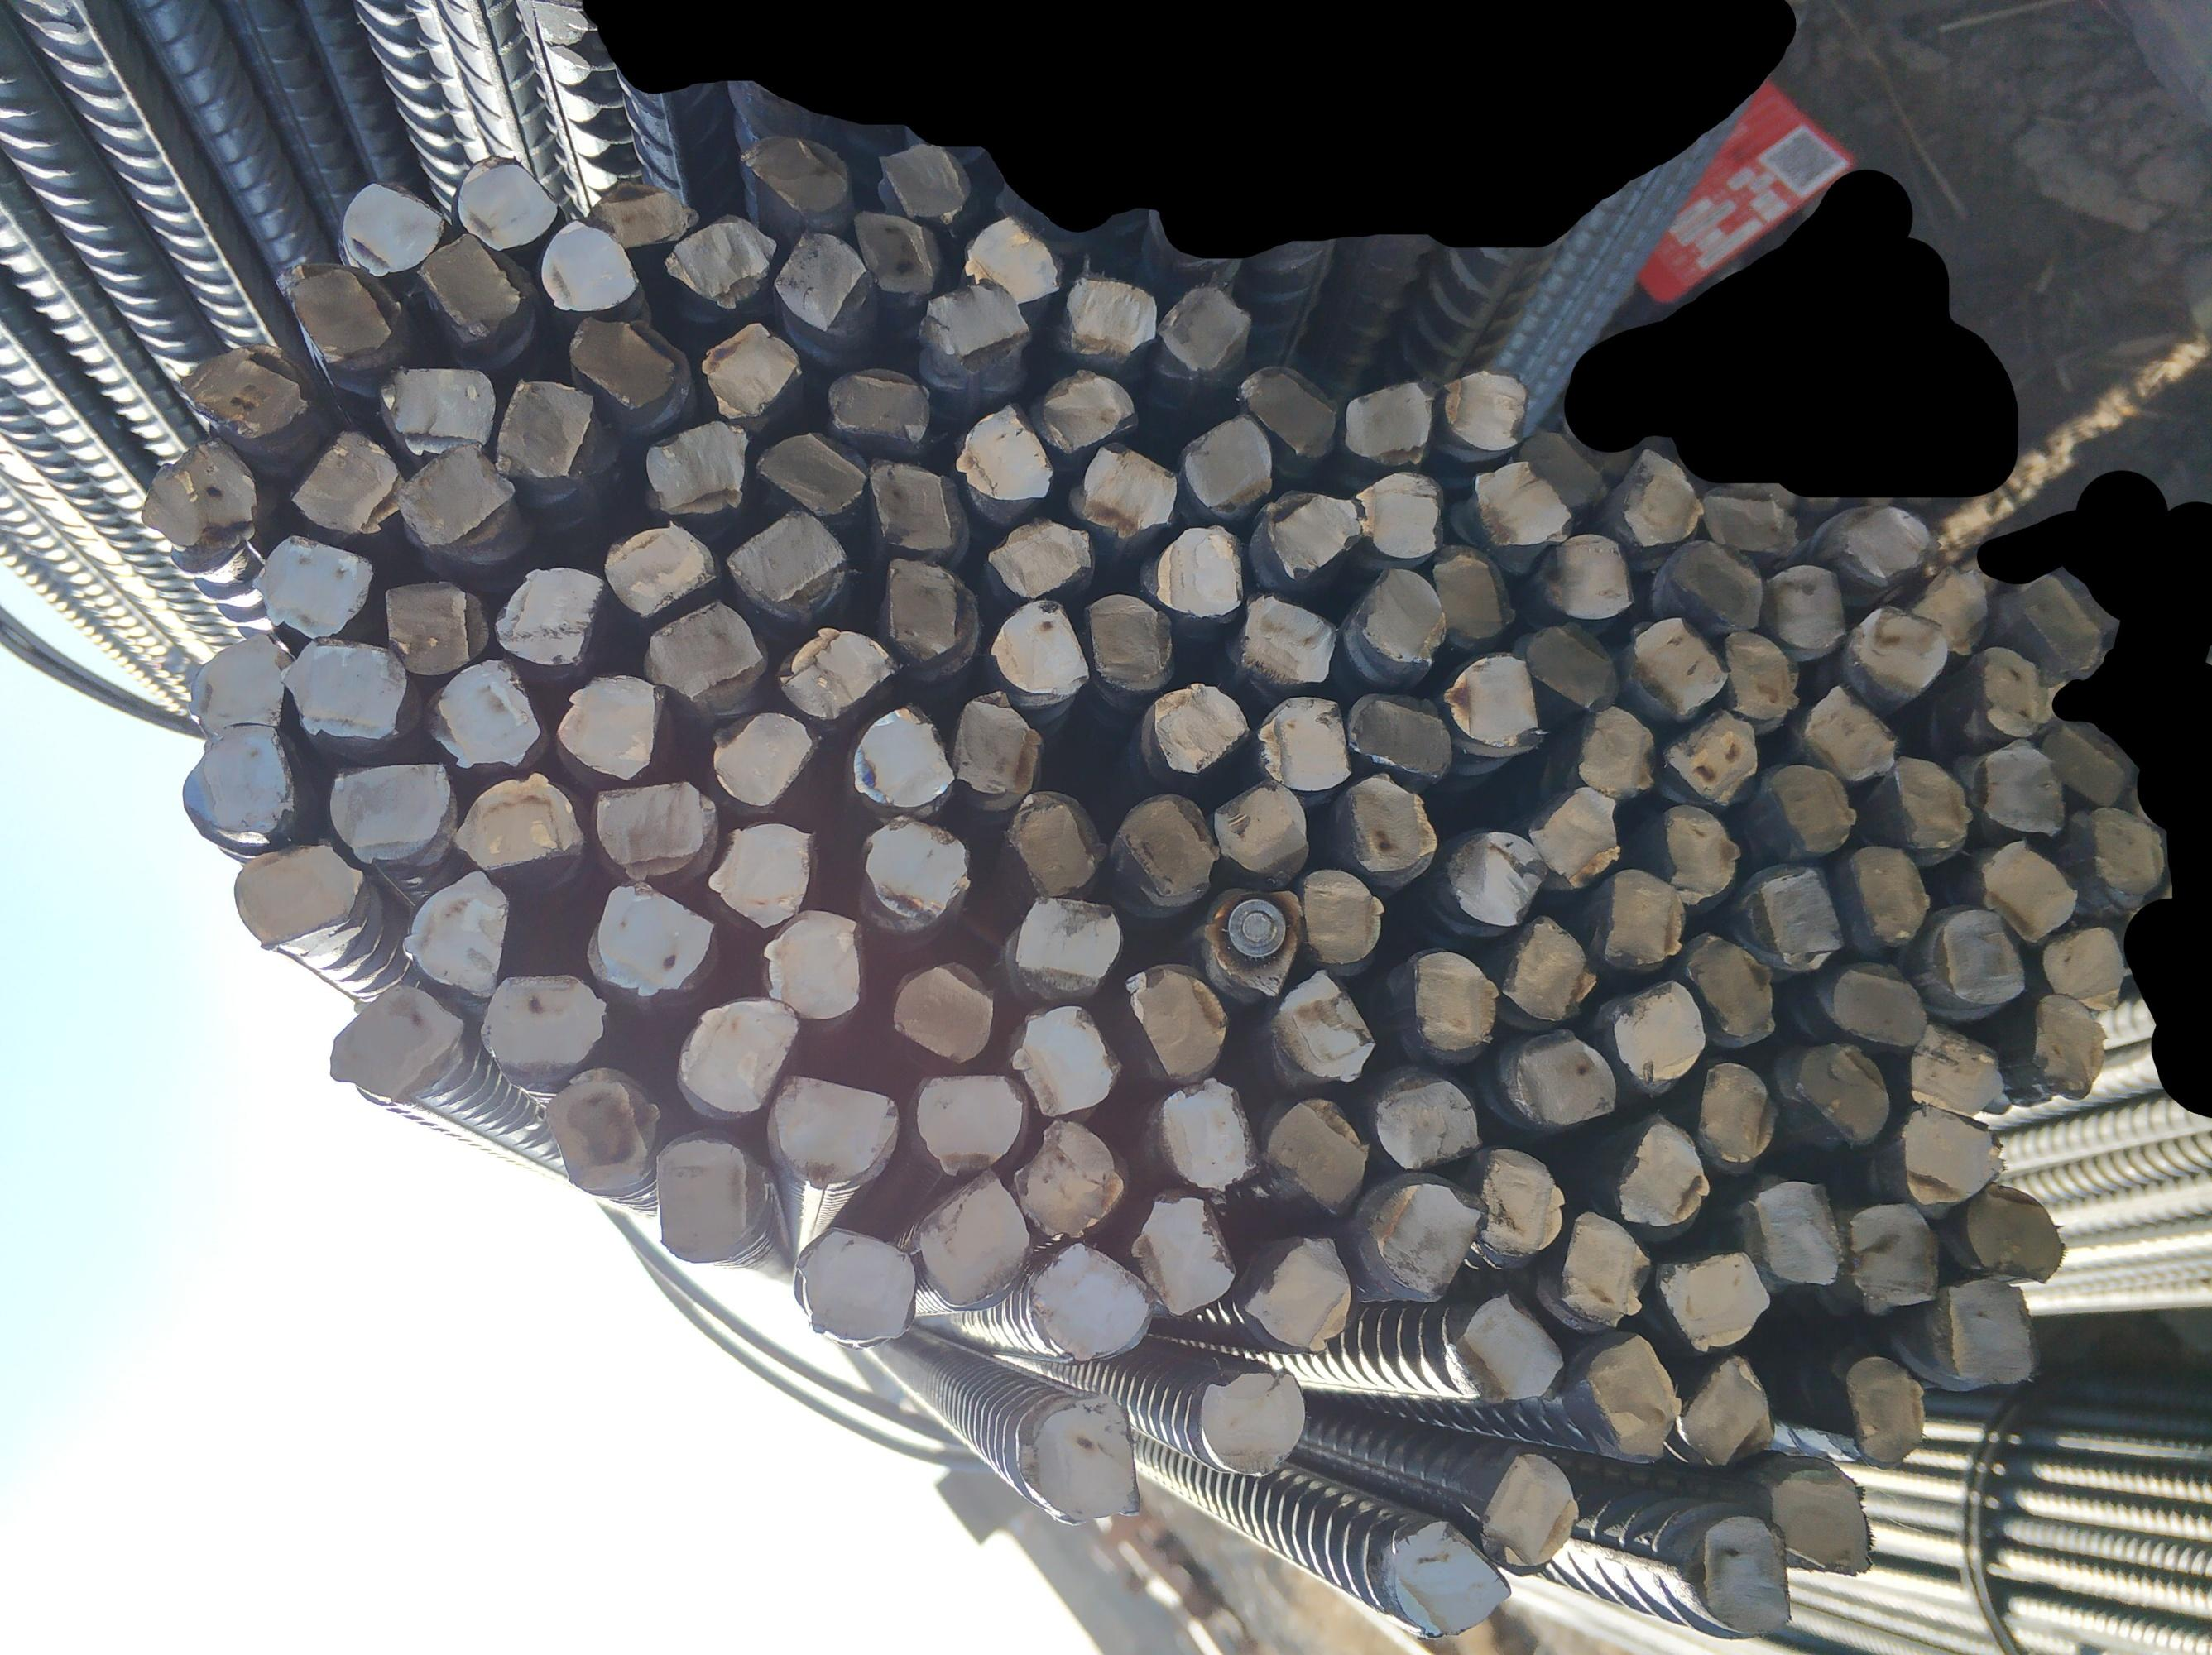bar: (413, 230, 543, 373), (911, 1163, 1034, 1312), (323, 981, 468, 1104), (792, 1219, 921, 1353), (1017, 1390, 1144, 1526), (650, 1125, 773, 1265), (1025, 1239, 1159, 1365), (765, 1069, 902, 1190), (583, 879, 717, 1000), (674, 992, 800, 1119), (1112, 957, 1234, 1088), (1012, 1111, 1131, 1245), (271, 261, 415, 372), (722, 504, 852, 625), (177, 722, 296, 853), (1002, 998, 1127, 1122), (541, 1063, 660, 1192), (1388, 1518, 1514, 1638), (1589, 974, 1708, 1100), (1154, 1077, 1269, 1206), (232, 841, 367, 950), (1237, 1231, 1356, 1355), (588, 775, 721, 886), (449, 770, 587, 875), (1365, 1177, 1485, 1298), (1126, 1191, 1239, 1318), (277, 634, 410, 741), (284, 426, 411, 537), (1580, 1328, 1683, 1465), (137, 434, 258, 550), (401, 867, 509, 997), (1461, 1141, 1567, 1274), (857, 811, 973, 931), (247, 531, 375, 640), (425, 654, 543, 770), (1475, 1447, 1581, 1576), (875, 555, 981, 684), (1268, 966, 1379, 1089), (1450, 1289, 1568, 1404), (1109, 791, 1222, 911), (175, 341, 311, 440), (1261, 1093, 1370, 1217), (393, 440, 518, 549), (1667, 928, 1777, 1050), (326, 761, 456, 864), (553, 669, 666, 785), (1364, 1067, 1488, 1173), (1196, 883, 1308, 999), (1766, 1462, 1878, 1579), (640, 598, 764, 703), (1499, 1024, 1619, 1130), (773, 622, 903, 721), (706, 820, 819, 932), (477, 973, 607, 1070), (1010, 893, 1126, 1002), (1653, 1247, 1772, 1352), (1648, 536, 1768, 640), (1208, 773, 1312, 892), (758, 906, 865, 1021), (598, 517, 717, 620), (916, 1072, 1029, 1179), (660, 210, 780, 312), (1673, 1350, 1776, 1468), (1197, 1365, 1306, 1476), (1231, 587, 1342, 694), (1004, 787, 1110, 899), (1340, 684, 1458, 784), (492, 564, 606, 668), (183, 631, 298, 733), (1698, 1512, 1794, 1634), (1962, 1178, 2071, 1286), (1441, 648, 1547, 759), (377, 362, 498, 459), (1651, 703, 1760, 809), (567, 314, 681, 415), (848, 701, 956, 808), (1613, 1117, 1713, 1232), (1422, 536, 1522, 651), (1557, 1207, 1653, 1328), (1941, 1275, 2043, 1387), (886, 962, 996, 1066), (1497, 911, 1600, 1022), (1348, 560, 1451, 671), (1845, 1199, 1941, 1317), (1342, 765, 1439, 881), (1745, 1177, 1847, 1288), (708, 708, 818, 809), (334, 178, 446, 278), (751, 427, 873, 519), (493, 373, 594, 483), (1900, 1103, 2008, 1206), (1976, 837, 2080, 943), (1179, 410, 1277, 521), (986, 596, 1091, 699), (1232, 362, 1339, 463), (697, 319, 805, 420), (1589, 866, 1688, 975), (643, 417, 750, 518), (770, 223, 869, 333), (1794, 1037, 1890, 1149), (947, 687, 1043, 799), (952, 399, 1056, 501), (1523, 782, 1623, 890), (1799, 681, 1902, 784), (1626, 615, 1729, 717), (453, 151, 558, 252), (536, 213, 641, 314), (1843, 601, 1950, 699), (381, 578, 489, 676), (1255, 487, 1362, 585), (1077, 437, 1178, 540), (1253, 693, 1354, 796), (1443, 829, 1549, 927), (1972, 732, 2068, 840), (736, 131, 852, 218), (1754, 864, 1846, 973), (1081, 590, 1178, 694), (1029, 366, 1139, 457), (1842, 1352, 1927, 1470), (982, 512, 1093, 602), (1931, 905, 2028, 1005), (1533, 530, 1636, 624), (1907, 1019, 2005, 1116), (1409, 943, 1499, 1051), (1151, 679, 1250, 775), (1292, 866, 1388, 966), (961, 212, 1063, 306), (921, 274, 1034, 359), (1691, 1058, 1781, 1164), (1469, 458, 1574, 549), (1845, 842, 1932, 950), (1829, 956, 1928, 1049), (1522, 620, 1622, 712), (1657, 800, 1744, 907), (583, 172, 701, 251), (1153, 282, 1253, 373), (1618, 445, 1706, 549), (864, 455, 957, 553), (1767, 761, 1860, 857), (2028, 991, 2110, 1100), (1154, 522, 1245, 620), (1060, 274, 1159, 363), (823, 364, 932, 445), (1352, 467, 1442, 563), (1341, 377, 1435, 468), (2018, 572, 2104, 671), (849, 207, 943, 297), (872, 140, 973, 223), (1890, 753, 1975, 851), (1576, 703, 1658, 802), (2041, 923, 2133, 1012), (1517, 427, 1610, 513), (2040, 720, 2129, 808), (1698, 477, 1801, 554), (1720, 626, 1802, 722), (1439, 367, 1527, 453), (1764, 561, 1849, 649), (2086, 804, 2166, 896), (1841, 503, 1932, 580), (1915, 563, 1989, 656), (1975, 643, 2046, 739)
